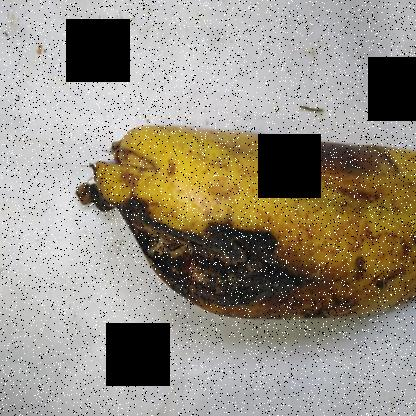ripe: (307, 178, 415, 341)
rotten: (77, 180, 310, 357), (271, 119, 401, 199)
